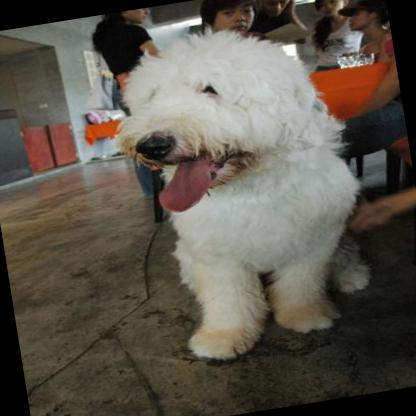Old_English_sheepdog: (93, 3, 384, 376)
